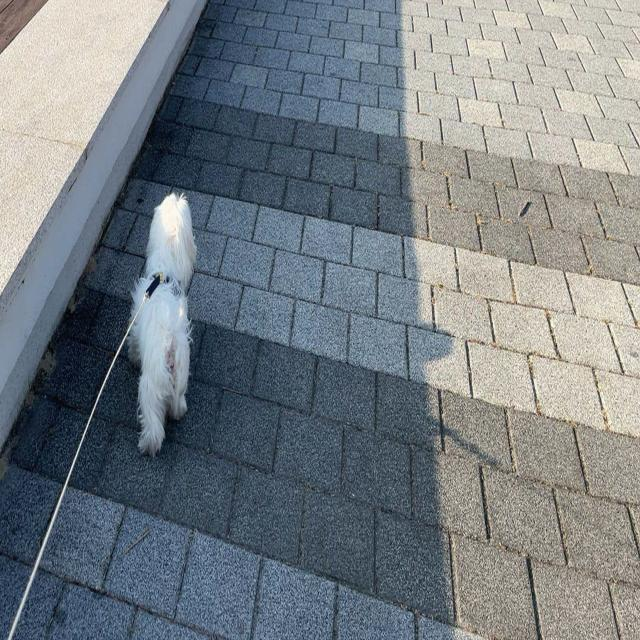Dog: (126, 191, 198, 458)
